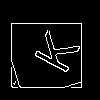K: (24, 24, 81, 76)
